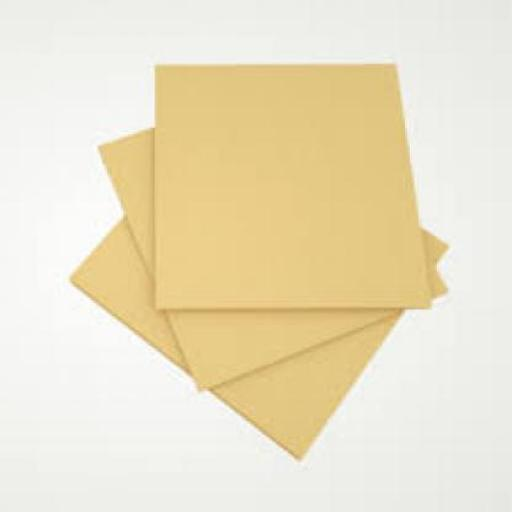cardboard: (95, 125, 444, 392), (68, 214, 446, 457), (150, 62, 430, 307)
